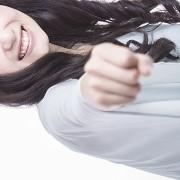gu-: (79, 43, 154, 110)
